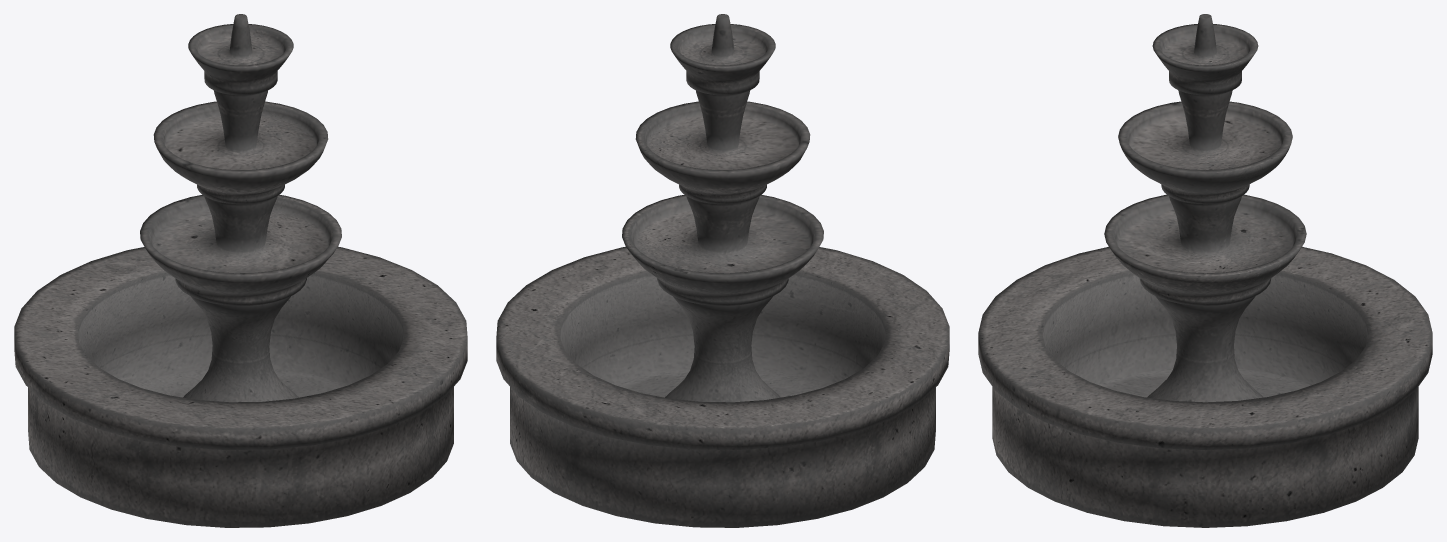
File: Simple Fountain 3D Model.glb
3 renders of one model, left to right at view 1: azimuth 30°, elevation 25°; view 2: azimuth 150°, elevation 25°; view 3: azimuth 270°, elevation 25°, orthographic.
Visible parts, largest first — view 1: Fountain; view 2: Fountain; view 3: Fountain.
Boxes of the visible parts, x1,y1,x2,y2 form: Fountain: (14, 14, 467, 527); Fountain: (496, 14, 949, 527); Fountain: (978, 14, 1432, 527).
Size of the model in its own units: 2.08 by 2.12 by 2.08.
Materials: 1 (1 with a texture image).
